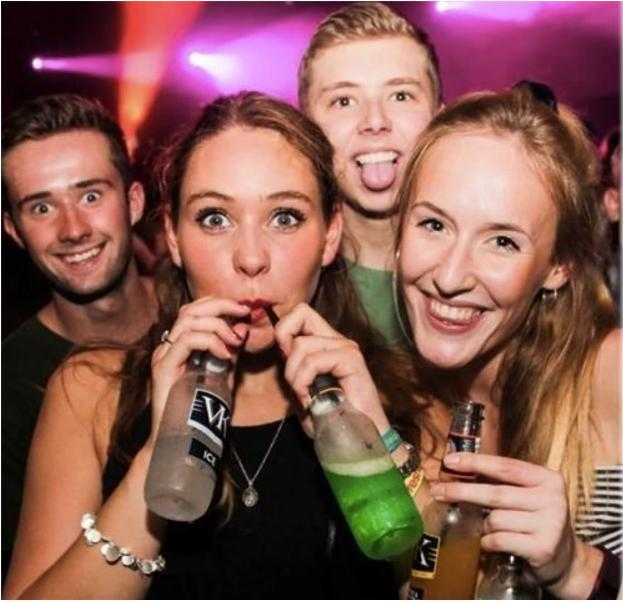Drunk: (401, 142, 541, 359), (183, 139, 317, 348), (317, 45, 435, 208), (7, 140, 129, 293)
